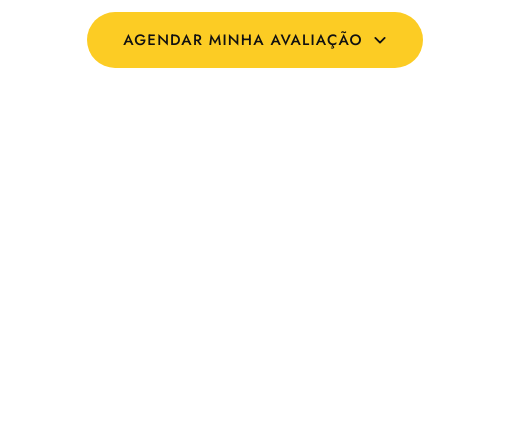
Test: CtaAgendamento › aberto, mostra as informações da clínica e o link do WhatsApp
The image size is (511, 427).
Click the button "Agendar minha avaliação" at [255, 40], box [87,12,423,68]
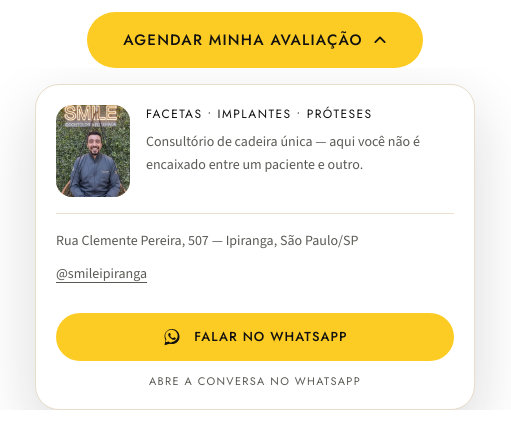
Result: the button "Agendar minha avaliação" is expanded at [87,12,423,68]
Result: the text "Facetas • Implantes • Próteses" is shown at [146,105,372,123]
Result: the text "cadeira única" is shown at [146,132,420,174]
